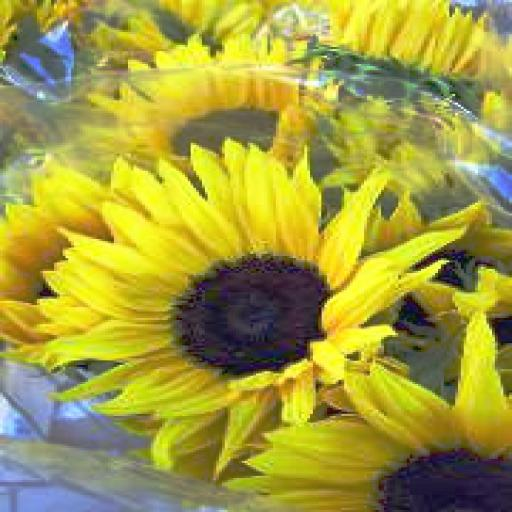sunflower: (48, 145, 461, 414), (222, 362, 512, 512)
